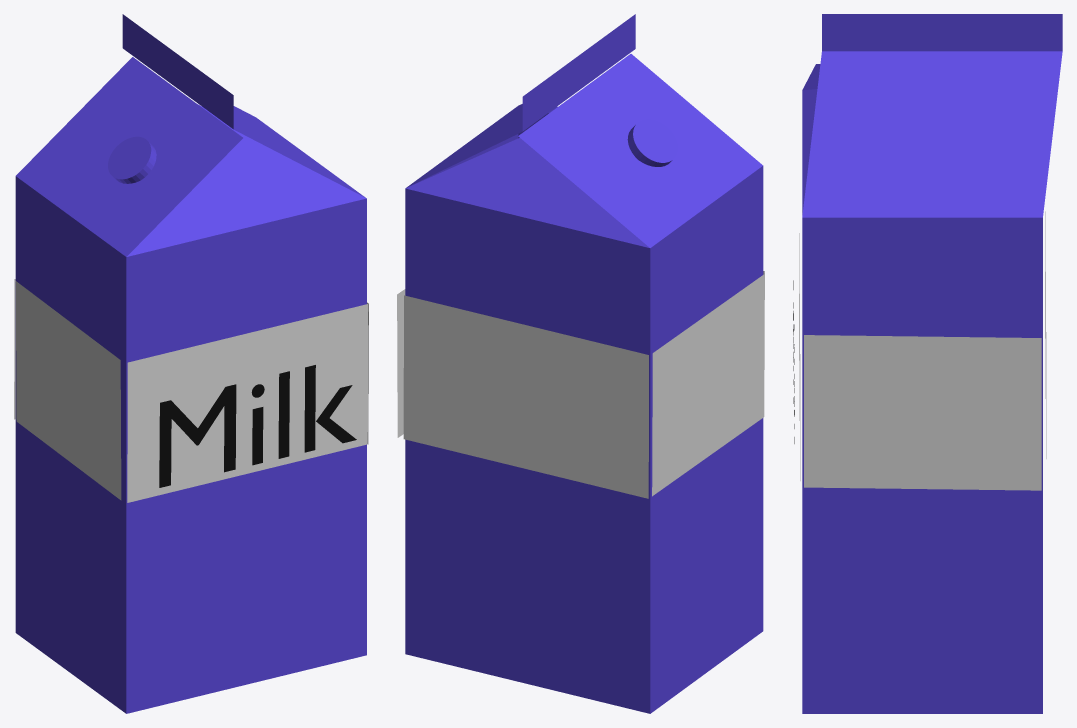
The model's file is milk.fbx.
3 views of the same model, side by side, from view 1: azimuth 30°, elevation 25°; view 2: azimuth 150°, elevation 25°; view 3: azimuth 270°, elevation 25° (orthographic). The views are drawn at different scales.
Parts seen in each view (by area): view 1: Cube, Plane.003, Plane.002, Text; view 2: Cube, Plane, Plane.002, Plane.001; view 3: Cube, Plane.001.
Part boxes in pixels (x1,y1,x2,y2): Cube: [15, 14, 366, 713]; Plane.003: [127, 304, 368, 502]; Plane.002: [15, 281, 121, 500]; Text: [159, 365, 356, 487]; Cube: [405, 14, 763, 713]; Plane: [403, 295, 648, 498]; Plane.002: [652, 274, 764, 496]; Plane.001: [397, 289, 405, 437]; Cube: [802, 14, 1062, 713]; Plane.001: [804, 335, 1041, 490].
Bounding box in the file's own units: 210 × 464 × 179.
